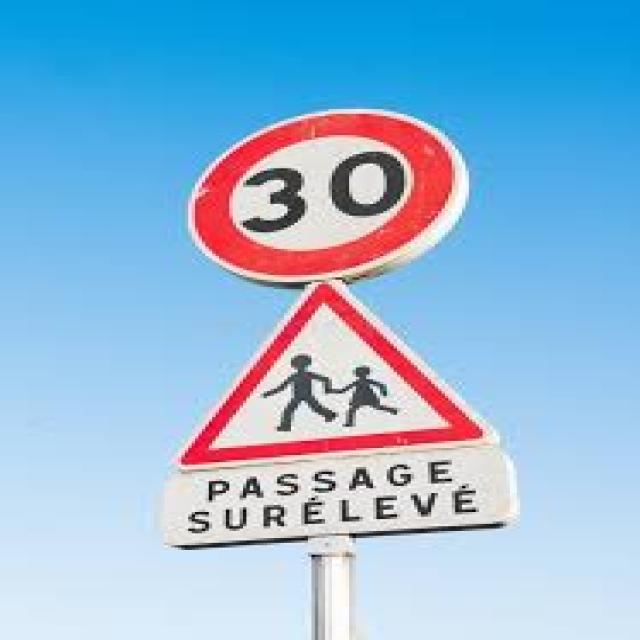Speed limit 30: (182, 106, 470, 286)
